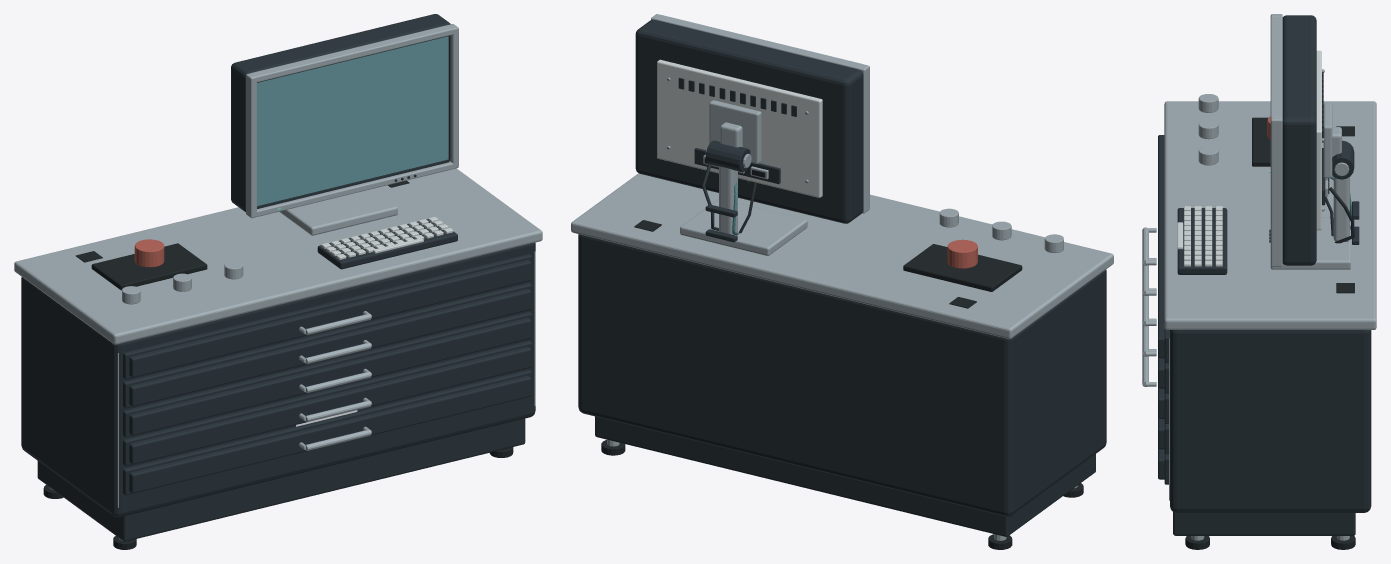
File: SF_TestControlConsole.fbx
3 views of the same model, side by side, from view 1: azimuth 30°, elevation 25°; view 2: azimuth 150°, elevation 25°; view 3: azimuth 270°, elevation 25° (orthographic). The views are drawn at different scales.
Parts seen in each view (by area): view 1: SF_TestControlConsole; view 2: SF_TestControlConsole; view 3: SF_TestControlConsole.
Part boxes in pixels (x1=…): SF_TestControlConsole: x1=14, y1=14, x2=542, y2=549; SF_TestControlConsole: x1=571, y1=14, x2=1113, y2=549; SF_TestControlConsole: x1=1142, y1=14, x2=1376, y2=549.
Bounding box in the file's own units: 168 × 150 × 75.65.
